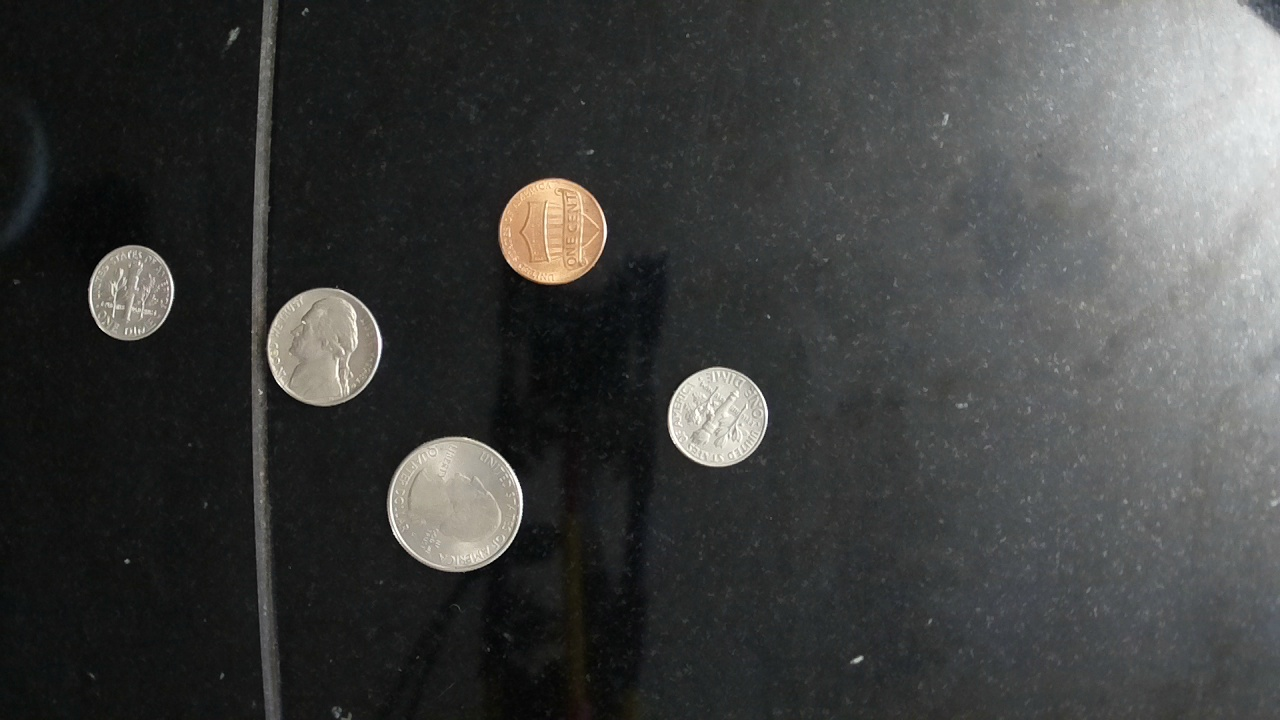dime: (664, 363, 772, 471), (84, 242, 178, 344)
nickel: (264, 284, 384, 410)
penny: (494, 172, 610, 290)
quarter: (382, 434, 524, 576)
